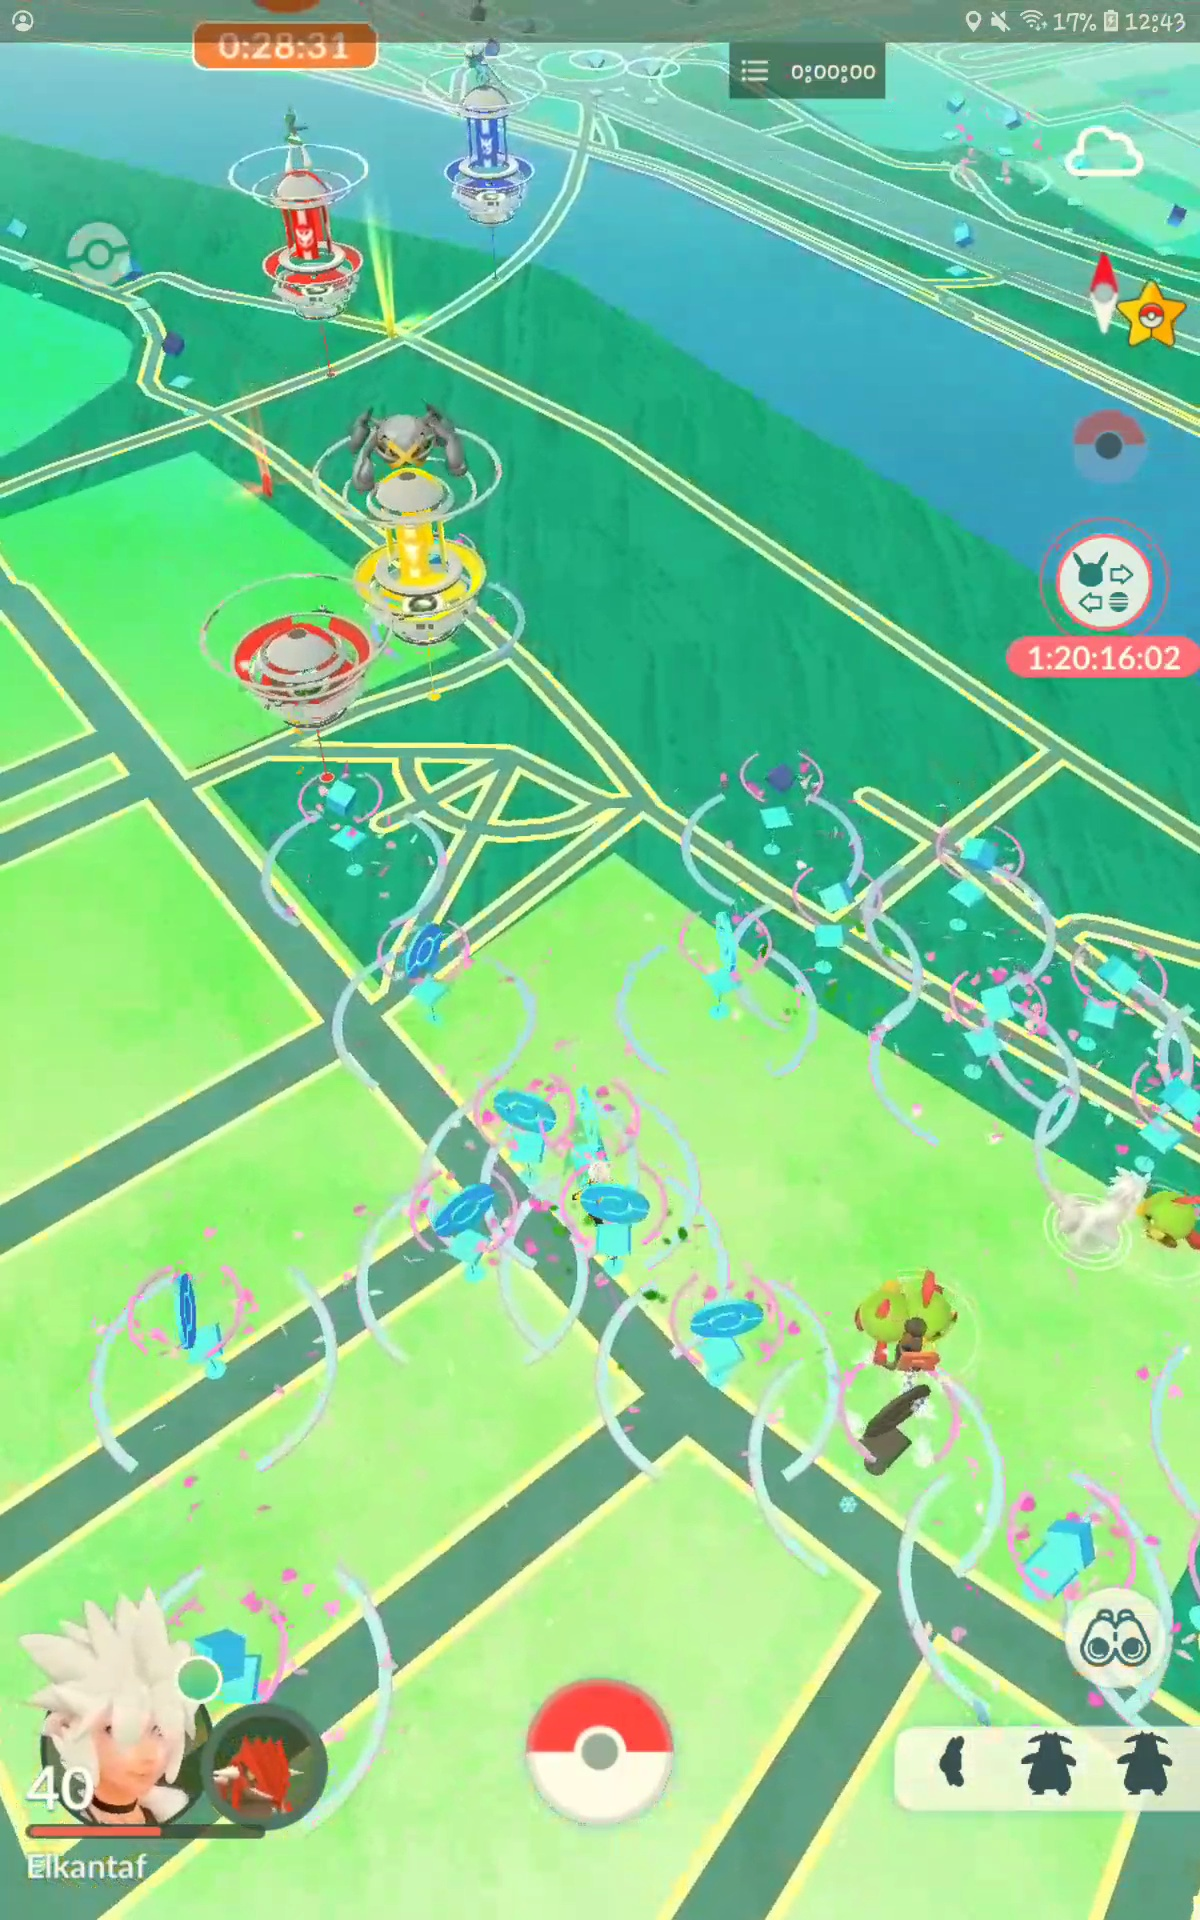Pokemon: (1051, 1165, 1149, 1258), (1141, 1189, 1200, 1252), (853, 1276, 907, 1344), (907, 1266, 957, 1337)
